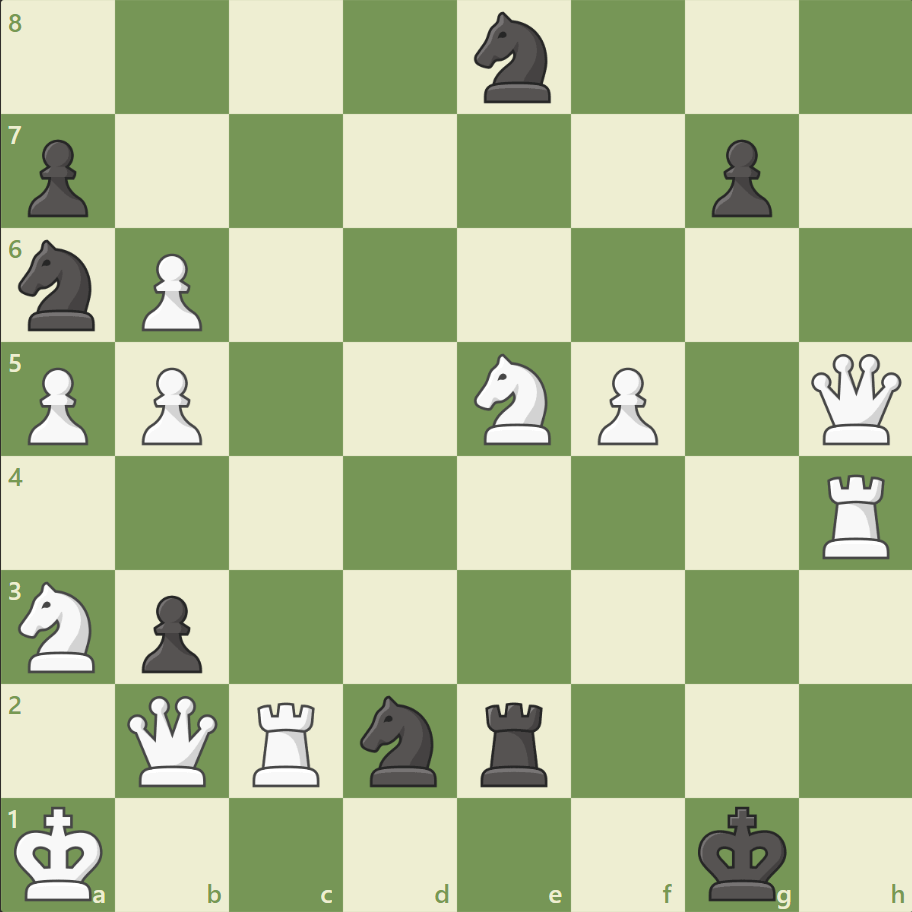K: (11, 798, 111, 906)
N: (465, 348, 562, 450), (11, 575, 108, 677)
P: (133, 246, 208, 337), (20, 359, 95, 450), (133, 359, 208, 450), (588, 359, 662, 450)
Q: (805, 349, 904, 449), (124, 690, 223, 789)
R: (814, 466, 897, 563), (246, 693, 329, 790)
k: (692, 798, 792, 906)
n: (351, 688, 449, 791), (465, 7, 562, 110), (11, 234, 108, 337)
p: (20, 132, 95, 223), (701, 132, 776, 223), (133, 586, 208, 677)
r: (473, 693, 556, 790)
